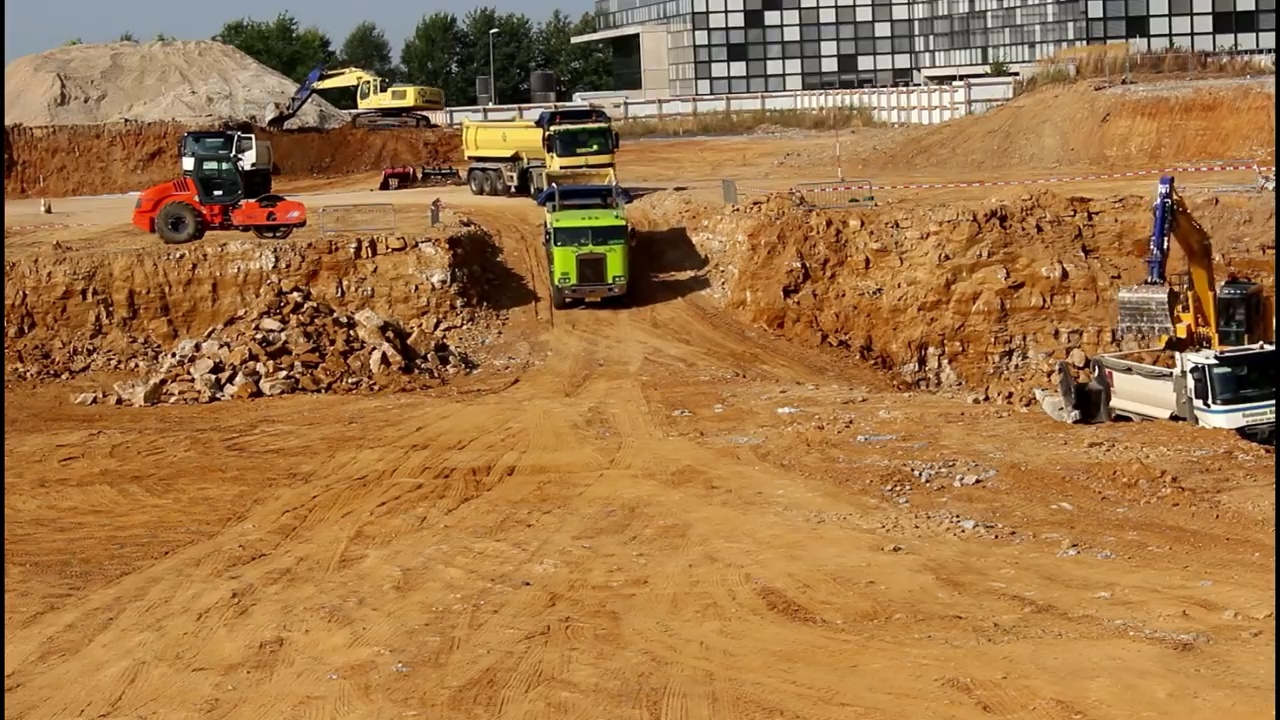compactor: (129, 151, 311, 243)
excavator: (1102, 172, 1280, 398), (264, 61, 450, 144)
truck: (1094, 337, 1280, 474), (461, 103, 626, 202), (535, 185, 640, 312), (177, 121, 283, 205)
